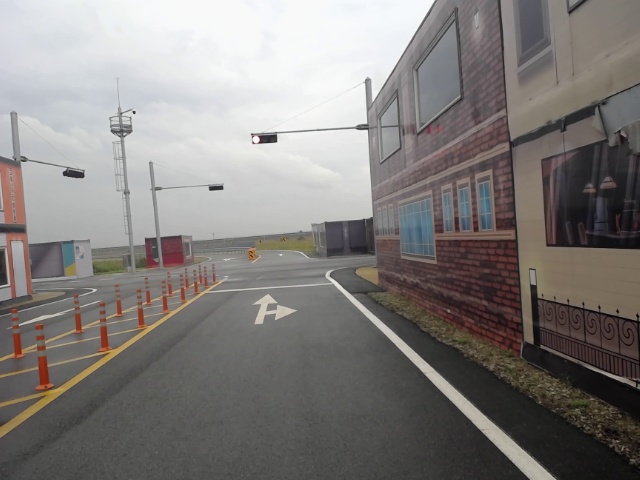red_3: (249, 134, 278, 146)
